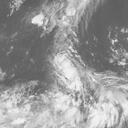cyclone: (55, 51, 88, 88)
